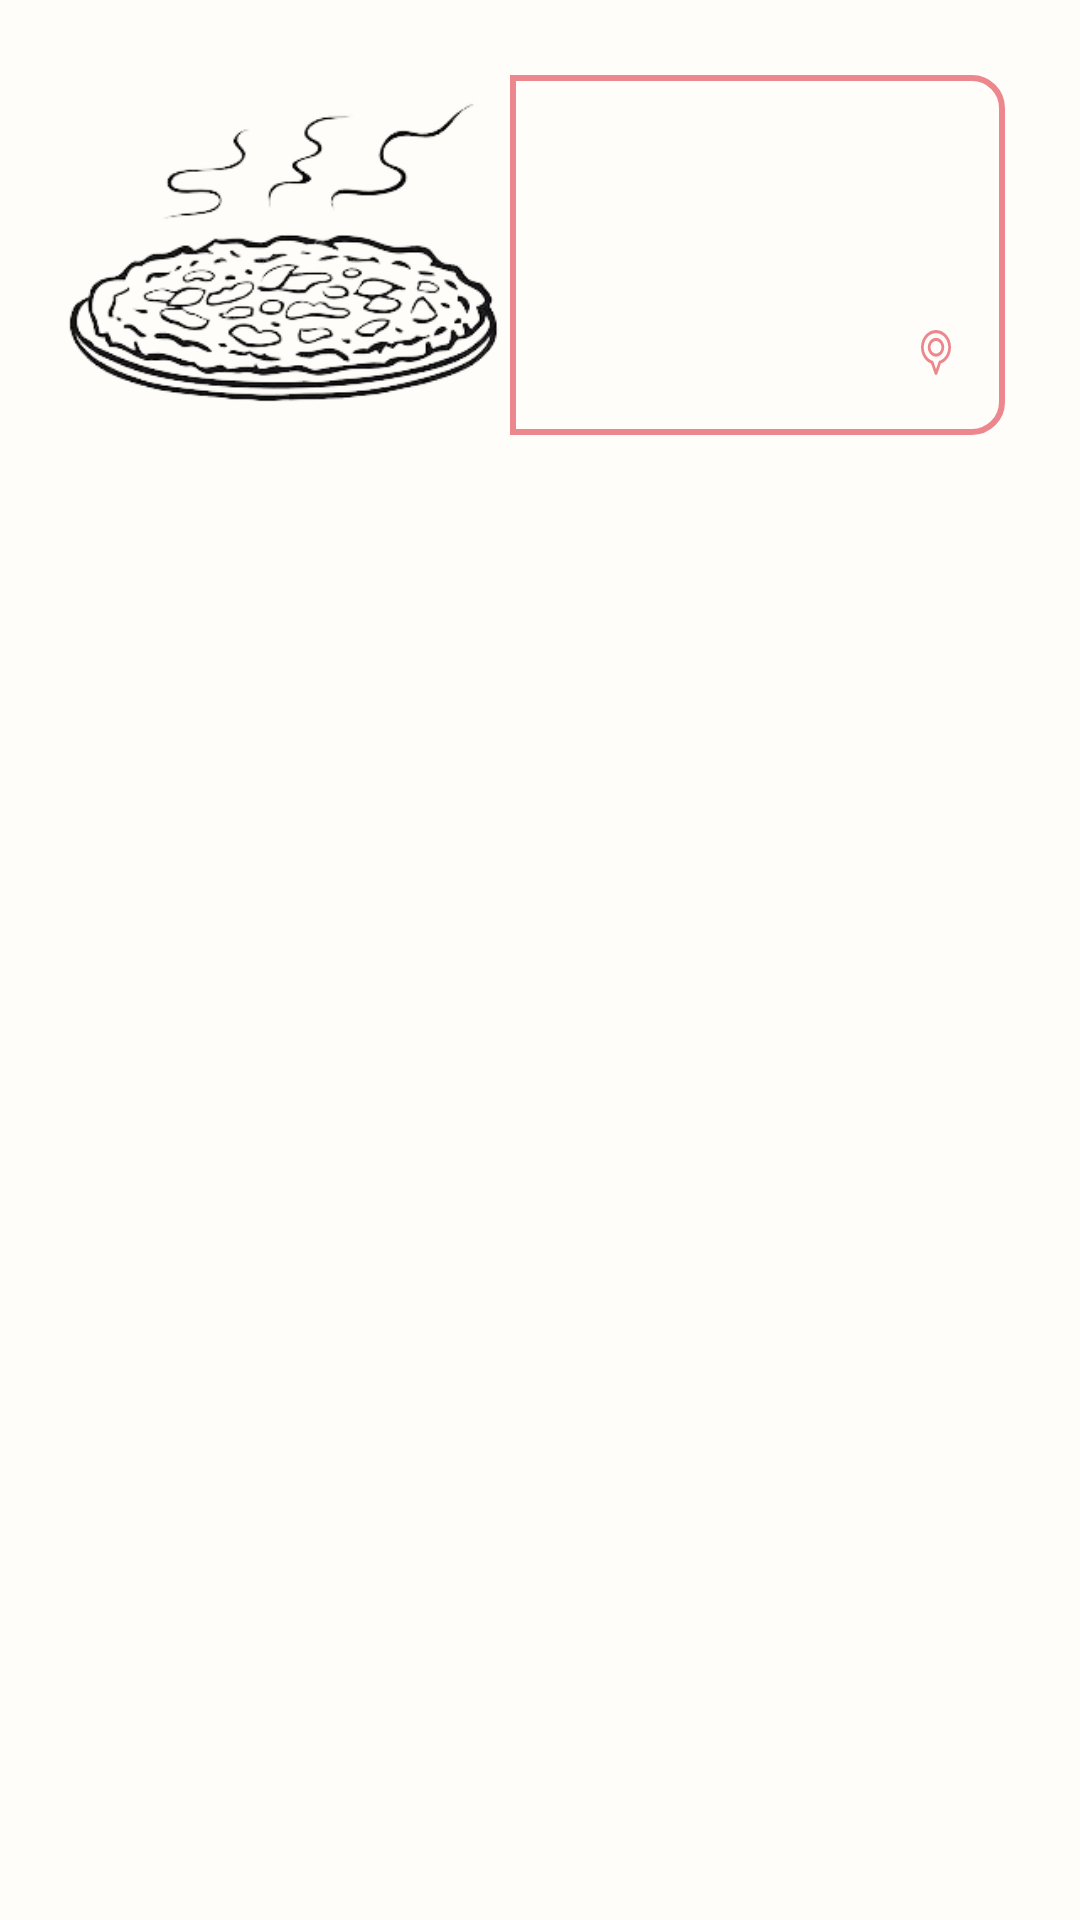

Named icons in this screenshot (1080×1920) and their centers, (x=x, y=y):
area: (x=936, y=352)
